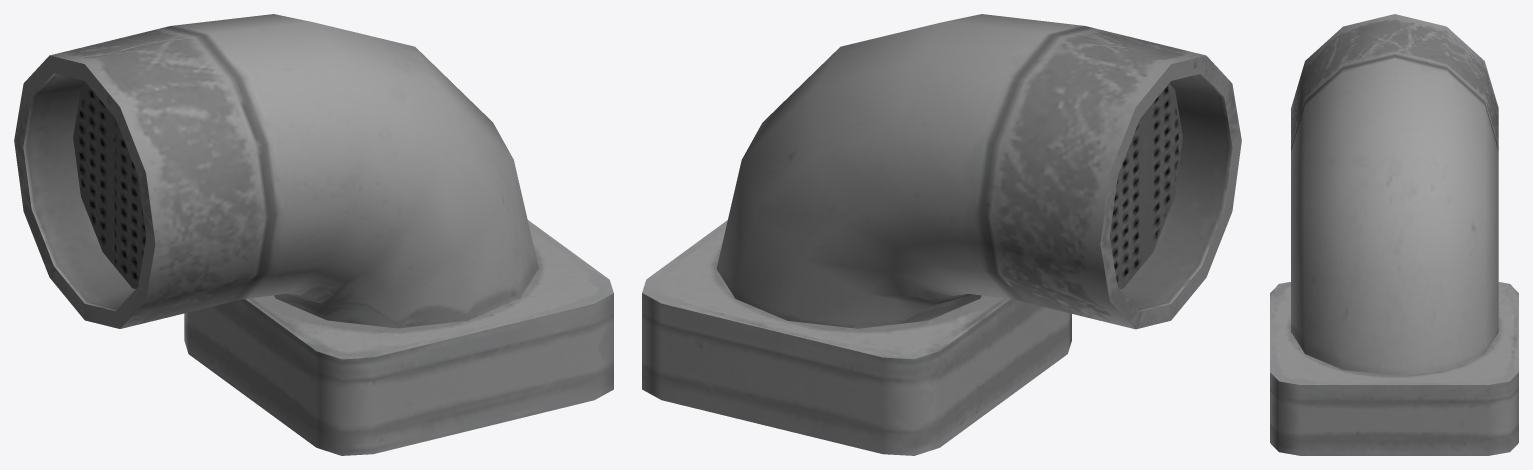
File: CP_Ventilation_04.fbx
3 views of the same model, side by side, from view 1: azimuth 30°, elevation 25°; view 2: azimuth 150°, elevation 25°; view 3: azimuth 270°, elevation 25° (orthographic). The views are drawn at different scales.
Parts seen in each view (by area): view 1: CP_Ventilation_04_LOD0; view 2: CP_Ventilation_04_LOD0; view 3: CP_Ventilation_04_LOD0.
Part boxes in pixels (x1,y1,x2,y2): CP_Ventilation_04_LOD0: [14, 14, 613, 455]; CP_Ventilation_04_LOD0: [642, 14, 1241, 455]; CP_Ventilation_04_LOD0: [1270, 14, 1518, 455].
Size of what is drawn, in the model's own units: 74.66 by 58.45 by 47.58.
